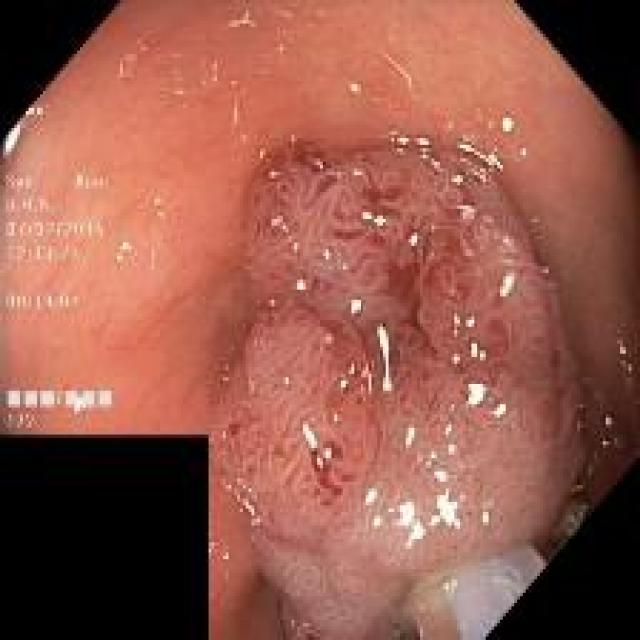Polyps: (215, 143, 582, 640)
